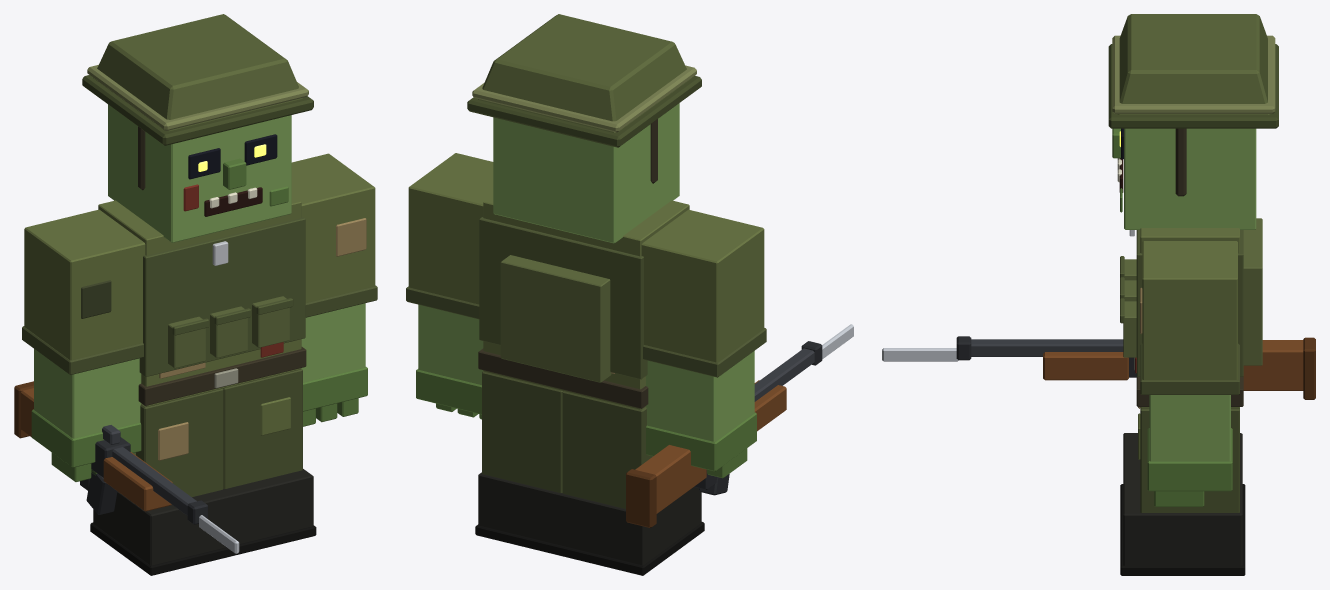
Rendered from myw_zombiesoldier.glb.
The picture shows the model from 3 angles, left to right: view 1: azimuth 30°, elevation 25°; view 2: azimuth 150°, elevation 25°; view 3: azimuth 270°, elevation 25°; orthographic projection. The views are drawn at different scales.
Parts seen in each view (by area): view 1: Torso, RightArm, Hat, LeftArm, Head, RightLeg, LeftLeg, Rifle; view 2: Torso, RightArm, Hat, Head, LeftArm, RightLeg, LeftLeg, Rifle; view 3: LeftArm, Hat, Head, LeftLeg, Rifle, Torso, RightLeg.
Boxes of the visible parts, <box> form: Torso: <box>98,195,306,406</box>; RightArm: <box>22,209,145,481</box>; Hat: <box>82,14,313,190</box>; LeftArm: <box>291,153,377,426</box>; Head: <box>108,104,291,242</box>; RightLeg: <box>90,388,233,575</box>; LeftLeg: <box>223,369,316,556</box>; Rifle: <box>14,381,239,553</box>; Torso: <box>478,195,689,409</box>; RightArm: <box>641,209,766,478</box>; Hat: <box>467,14,701,183</box>; Head: <box>493,103,679,243</box>; LeftArm: <box>406,153,493,419</box>; RightLeg: <box>556,391,704,575</box>; LeftLeg: <box>475,371,562,554</box>; Rifle: <box>626,324,853,527</box>; LeftArm: <box>1140,241,1239,506</box>; Hat: <box>1108,14,1278,196</box>; Head: <box>1112,128,1256,229</box>; LeftLeg: <box>1120,408,1245,575</box>; Rifle: <box>882,336,1315,399</box>; Torso: <box>1120,218,1262,408</box>; RightLeg: <box>1120,407,1245,527</box>.
Bounding box in the file's own units: 4.04 × 6.01 × 4.8.
